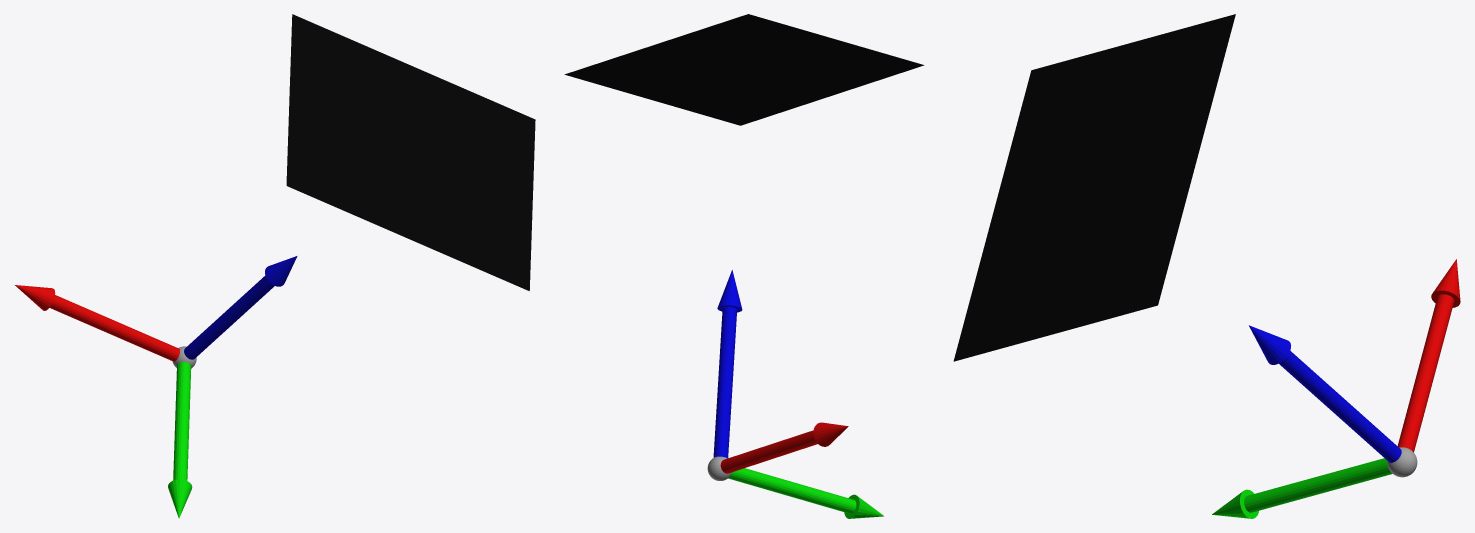
3 renders of one model, left to right at view 1: azimuth 30°, elevation 25°; view 2: azimuth 150°, elevation 25°; view 3: azimuth 270°, elevation 25°, orthographic. The views are drawn at different scales.
Bounding box in the file's own units: 0.2823 × 0.3157 × 0.2525.
